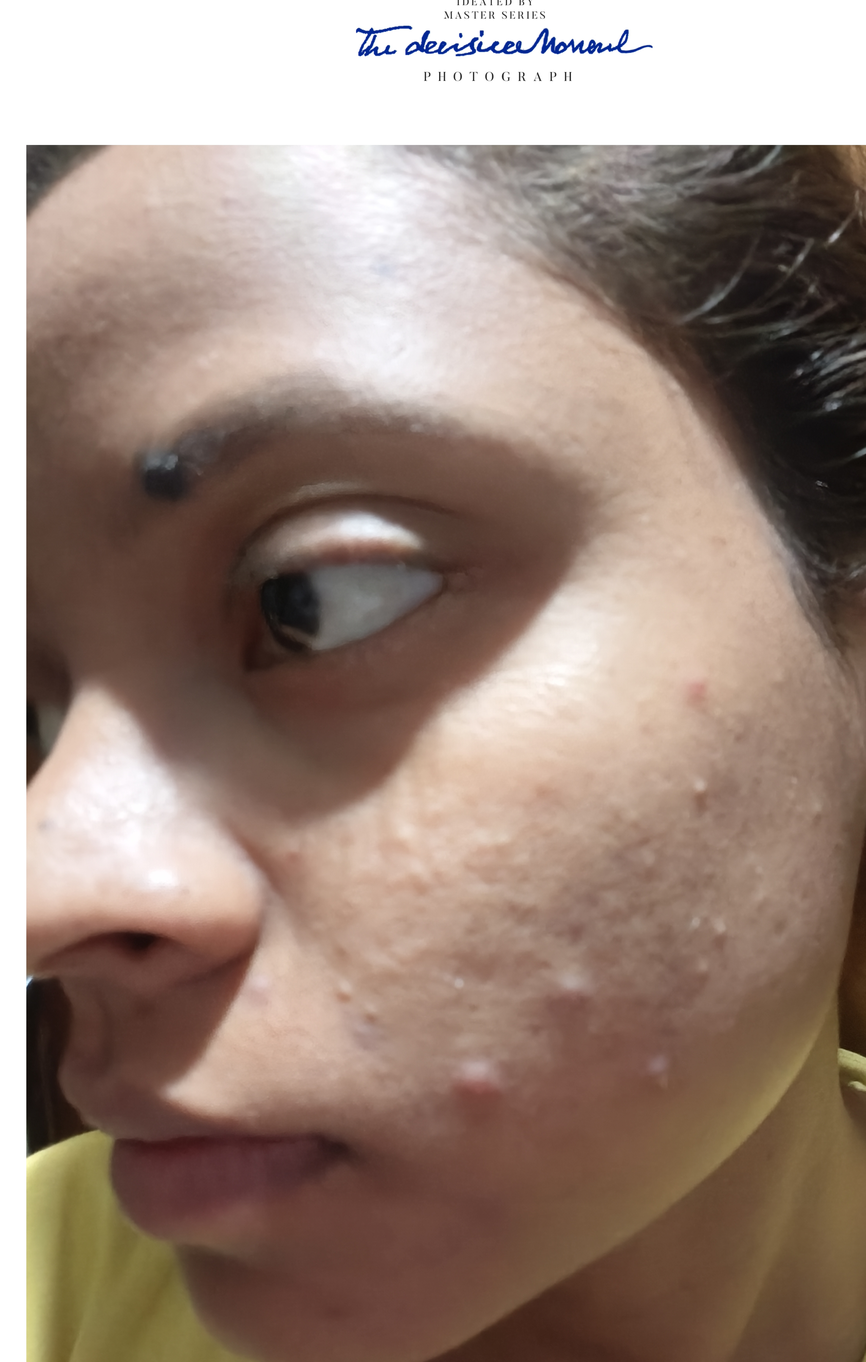nodule: (448, 1051, 542, 1117), (629, 1049, 715, 1117), (523, 964, 614, 1018)
papule: (693, 906, 765, 985), (329, 975, 405, 1041), (678, 673, 757, 720), (374, 853, 469, 892), (239, 962, 283, 1010), (382, 811, 420, 853)
pustule: (689, 770, 736, 826)
